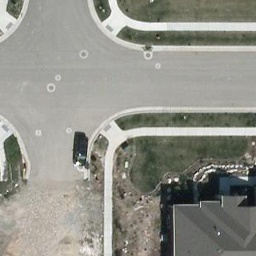car: (72, 133, 90, 164)
